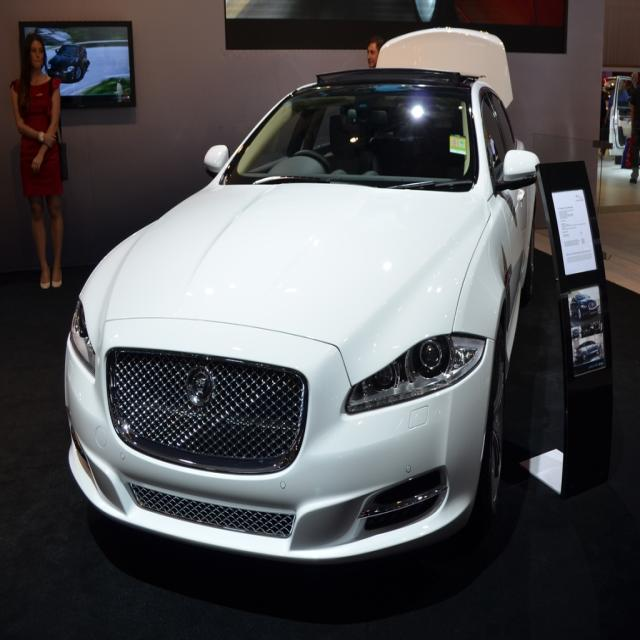car: (48, 48, 555, 582)
